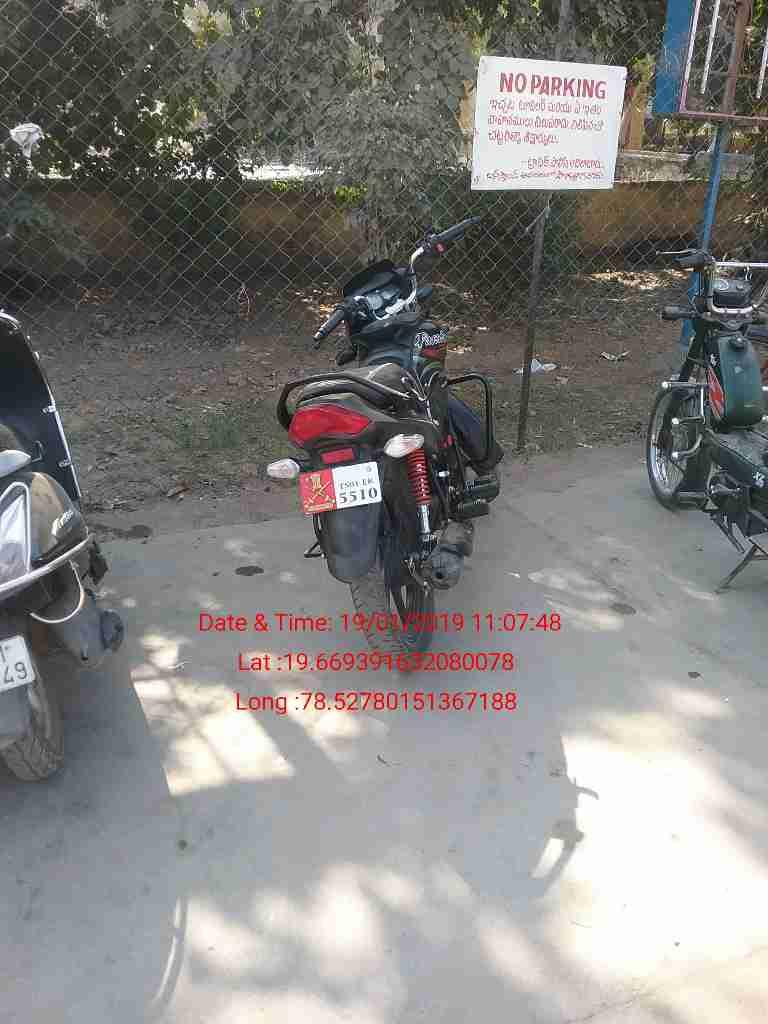plate: (293, 461, 394, 514)
